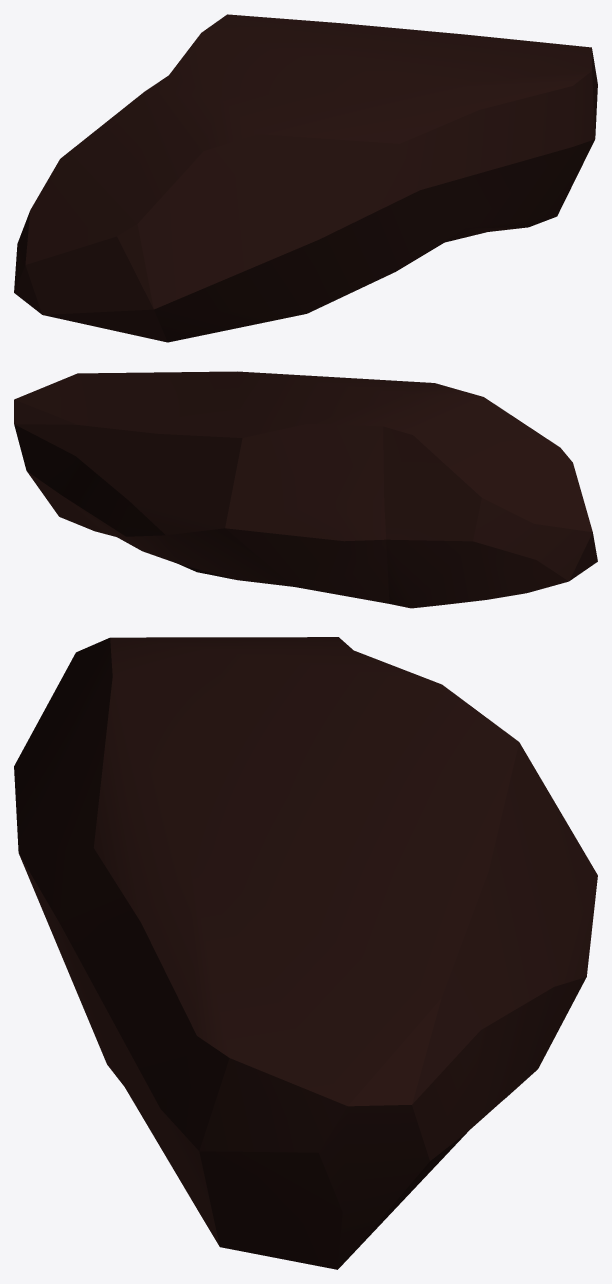
The model's file is SM_Venus_Rock_06.fbx.
3 renders of one model, top to bottom at view 1: azimuth 30°, elevation 25°; view 2: azimuth 150°, elevation 25°; view 3: azimuth 270°, elevation 25°, orthographic. The views are drawn at different scales.
Parts seen in each view (by area): view 1: SM_Rock_06; view 2: SM_Rock_06; view 3: SM_Rock_06.
Boxes of the visible parts, x1=… form: SM_Rock_06: x1=14, y1=14, x2=597, y2=342; SM_Rock_06: x1=14, y1=371, x2=597, y2=608; SM_Rock_06: x1=14, y1=637, x2=597, y2=1269.
Size of the model in its own units: 295 by 95.92 by 149.
